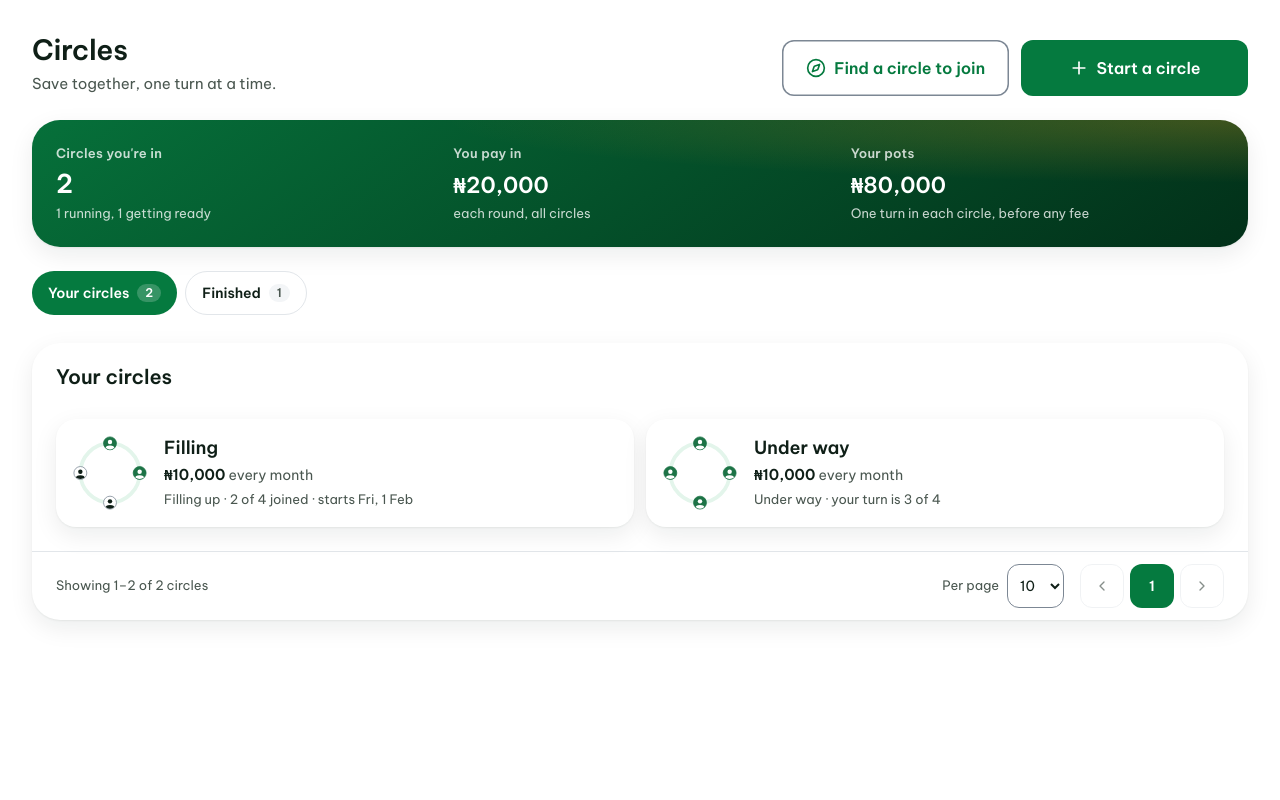
it: the circles home › lists circles you are in, with how full they are, and the finished ones apart
Expected: the heading "Your circles" is shown, [56,364,172,389]
Expected: the text "Filling up · 2 of 4 joined · starts Fri, 1 Feb" is shown, [164,490,413,510]
Note: The finished one sits on its own tab.
Click the button "Finished 1" at (246, 293), box [185,271,307,315]
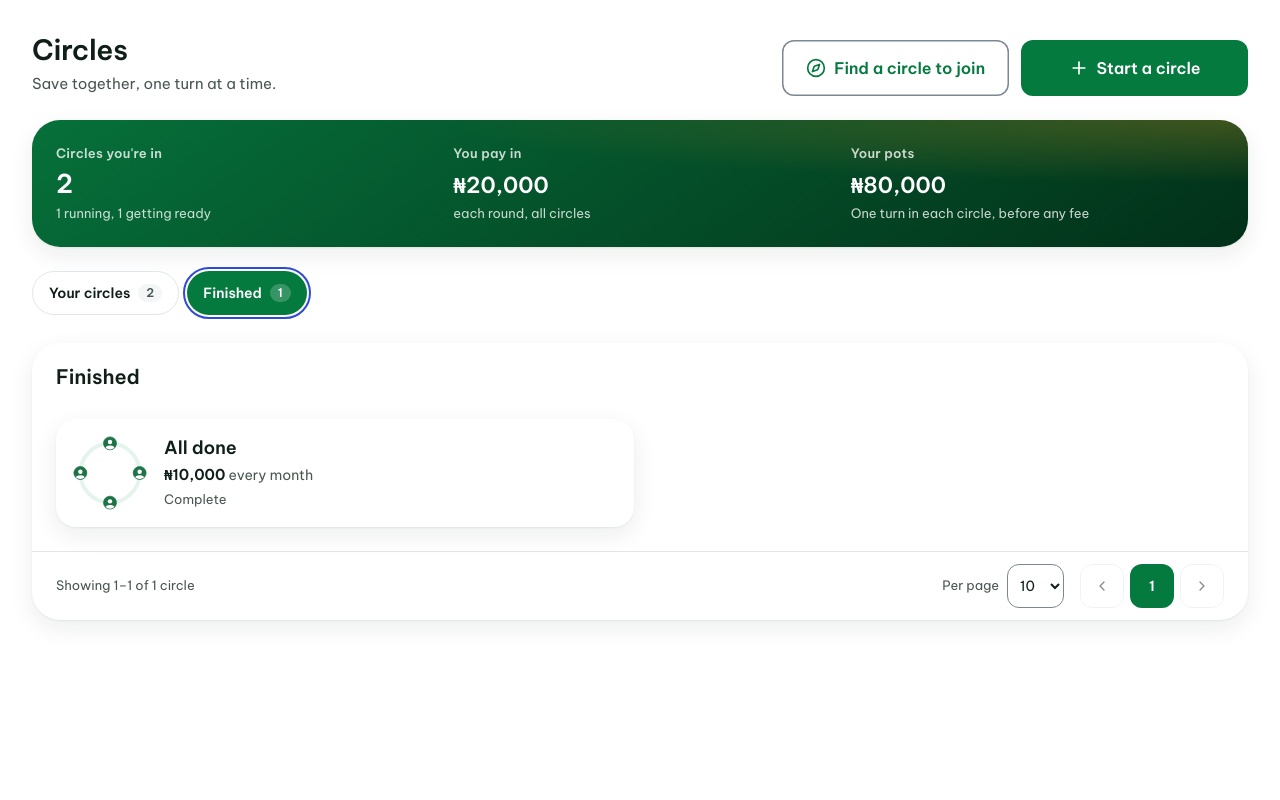
Expected: the element named "Your circles at a glance" shows "1 running, 1 getting ready", [56,204,211,220]
Expected: the heading "Finished" is shown, [56,364,140,389]
